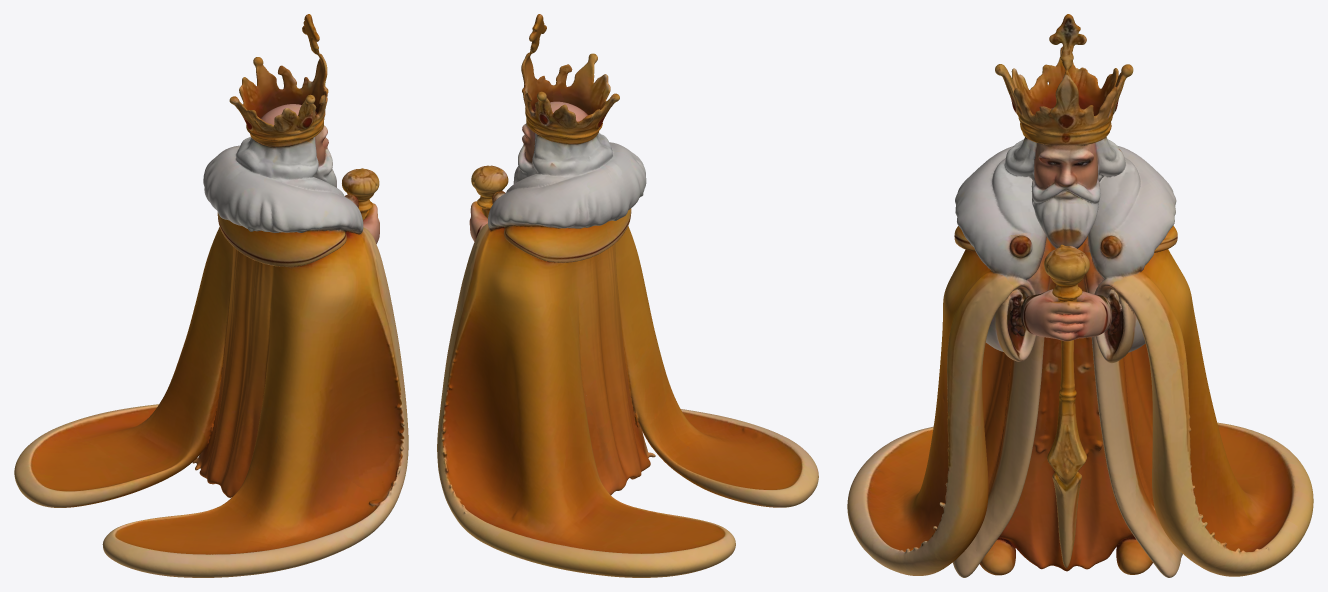
3 views of the same model, side by side, from view 1: azimuth 30°, elevation 25°; view 2: azimuth 150°, elevation 25°; view 3: azimuth 270°, elevation 25° (orthographic). The views are drawn at different scales.
Parts seen in each view (by area): view 1: tripo_node_db1246c0-5563-4d3c-930f-752f662cf492; view 2: tripo_node_db1246c0-5563-4d3c-930f-752f662cf492; view 3: tripo_node_db1246c0-5563-4d3c-930f-752f662cf492.
Boxes of the visible parts, x1=… form: tripo_node_db1246c0-5563-4d3c-930f-752f662cf492: x1=14, y1=14, x2=408, y2=577; tripo_node_db1246c0-5563-4d3c-930f-752f662cf492: x1=437, y1=14, x2=818, y2=577; tripo_node_db1246c0-5563-4d3c-930f-752f662cf492: x1=847, y1=14, x2=1313, y2=577.
Bounding box in the file's own units: 0.6864 × 1 × 0.7468.
Materials: 1 (1 with a texture image).
